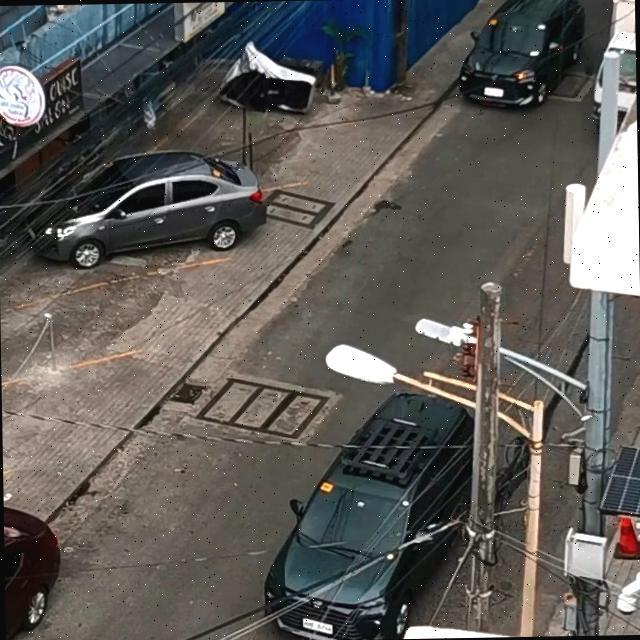Truck: (586, 0, 636, 132)
